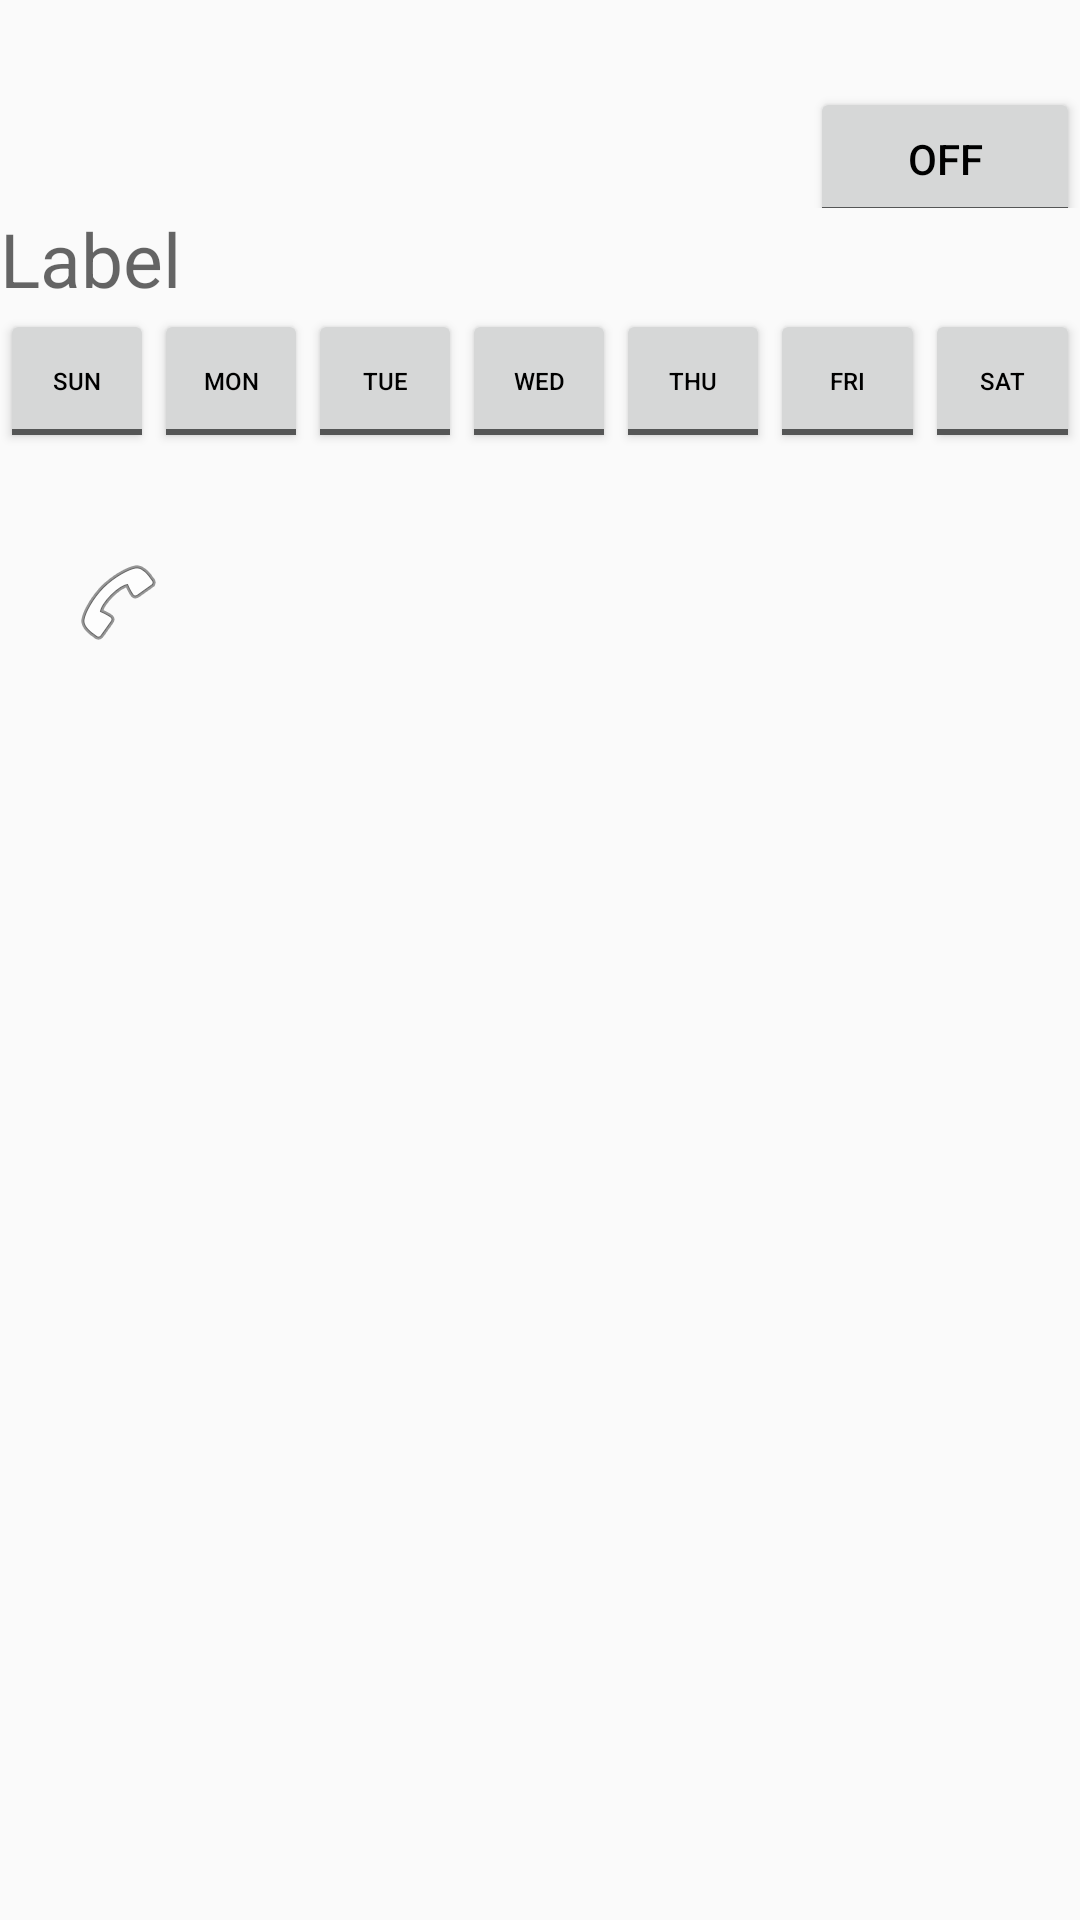

Point at icon controls on the screen. Image size 1080px×1920px, points as [x,y].
call: [118,602]
